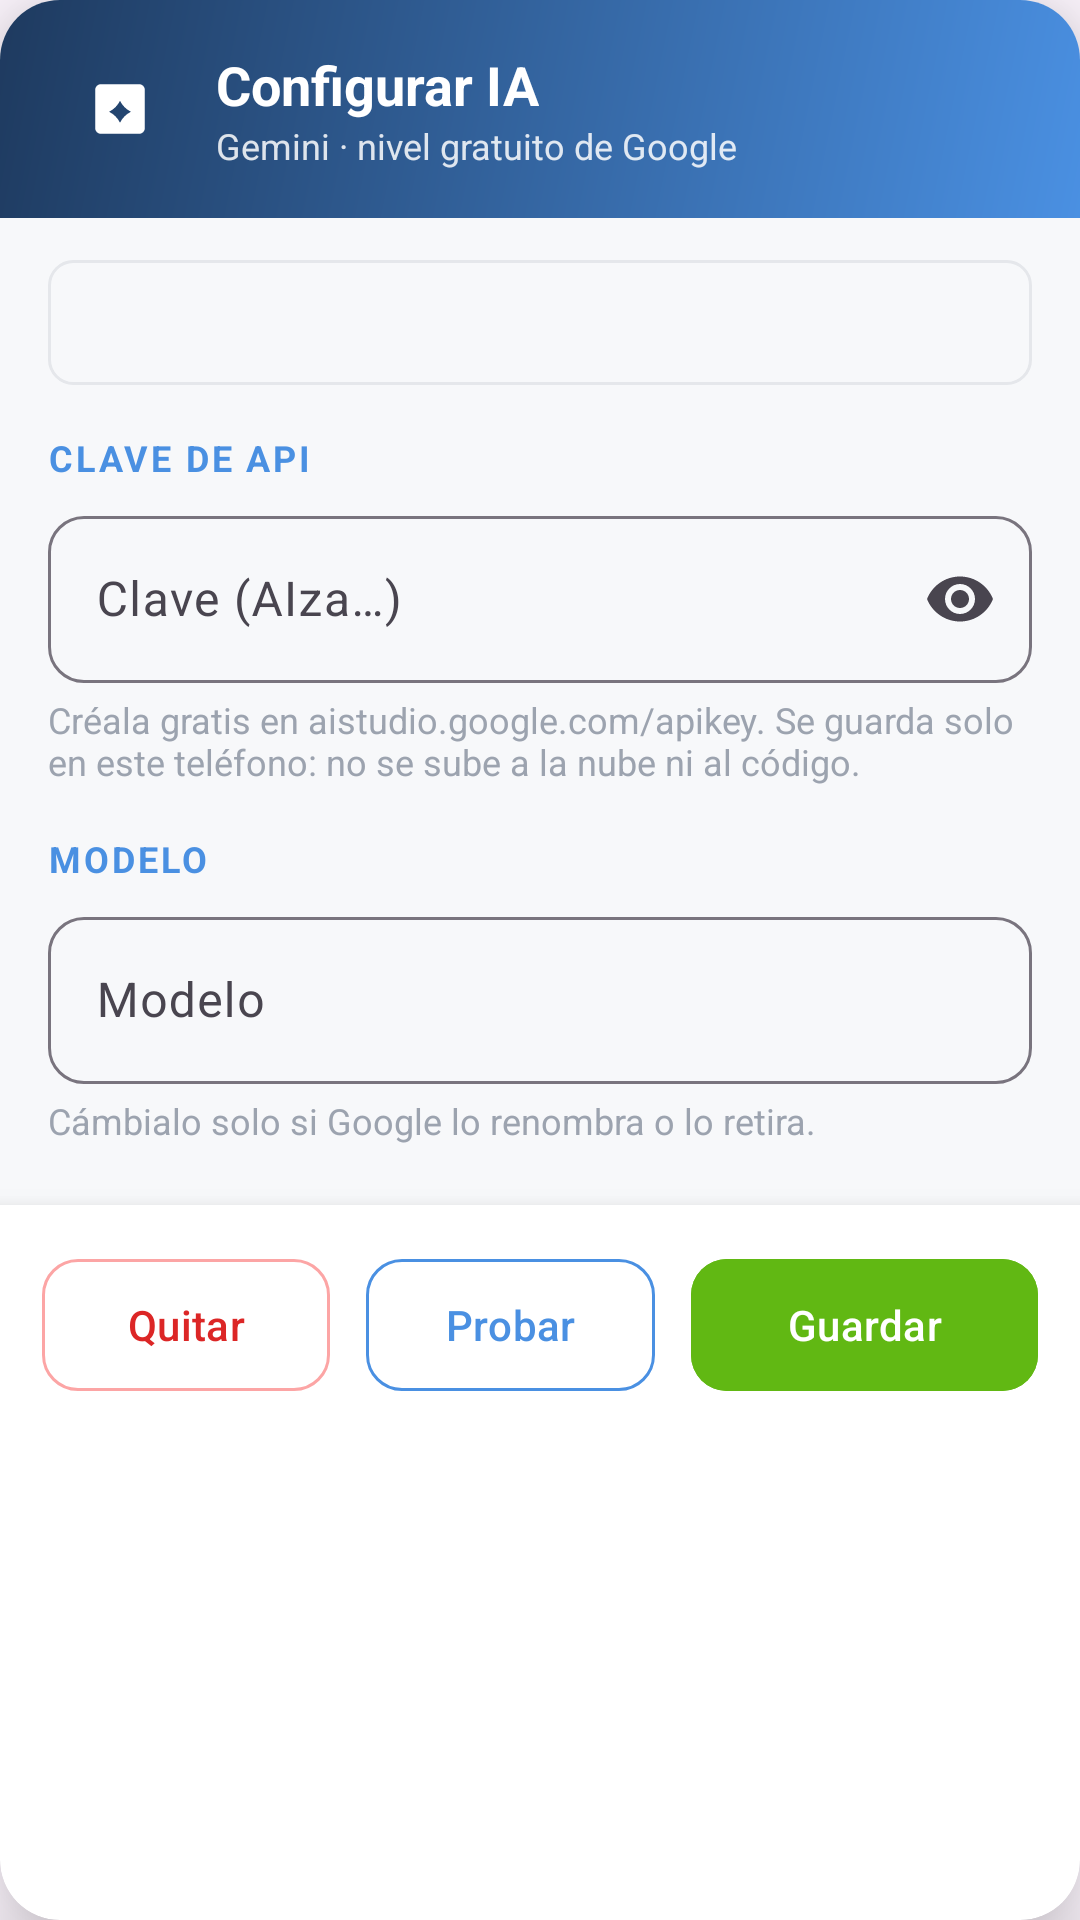

Icon click points for this 1080px x 1920px phone screenshot, format point (x, y):
ai sparkles: point (120, 109)
